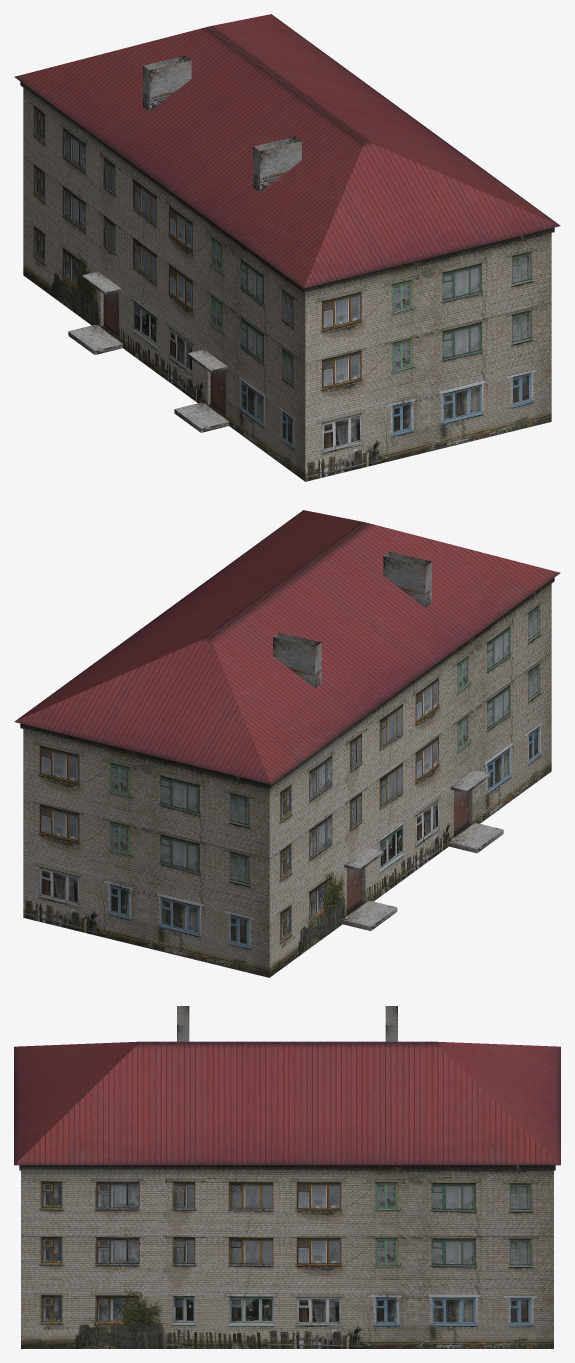
File: sibir_dom_3et4.FBX
3 views of the same model, one above another, from view 1: azimuth 30°, elevation 25°; view 2: azimuth 150°, elevation 25°; view 3: azimuth 270°, elevation 25° (orthographic). The views are drawn at different scales.
Parts seen in each view (by area): view 1: sibir_dom_3et4; view 2: sibir_dom_3et4; view 3: sibir_dom_3et4.
Part boxes in pixels (box(x1,y1,x2,y2)): sibir_dom_3et4: box(14, 14, 560, 481); sibir_dom_3et4: box(14, 510, 560, 977); sibir_dom_3et4: box(14, 1006, 560, 1348).
Size of the model in its own units: 1318 by 2360 by 1186.
